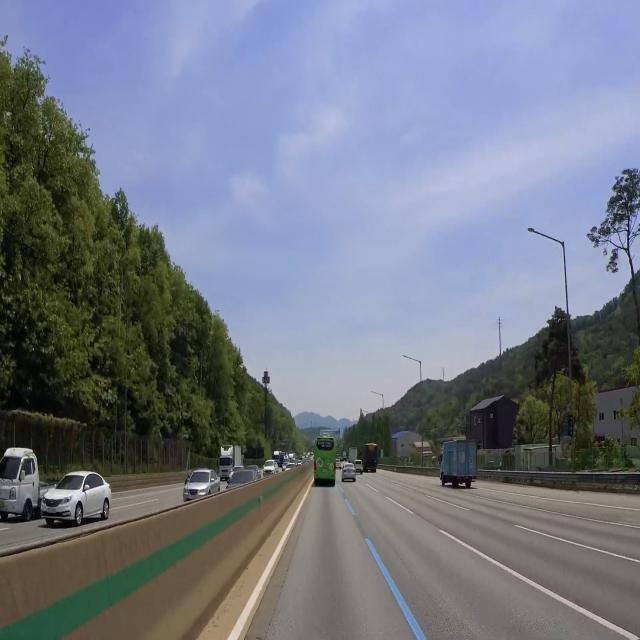car: (320, 465, 330, 478), (346, 471, 357, 480)
